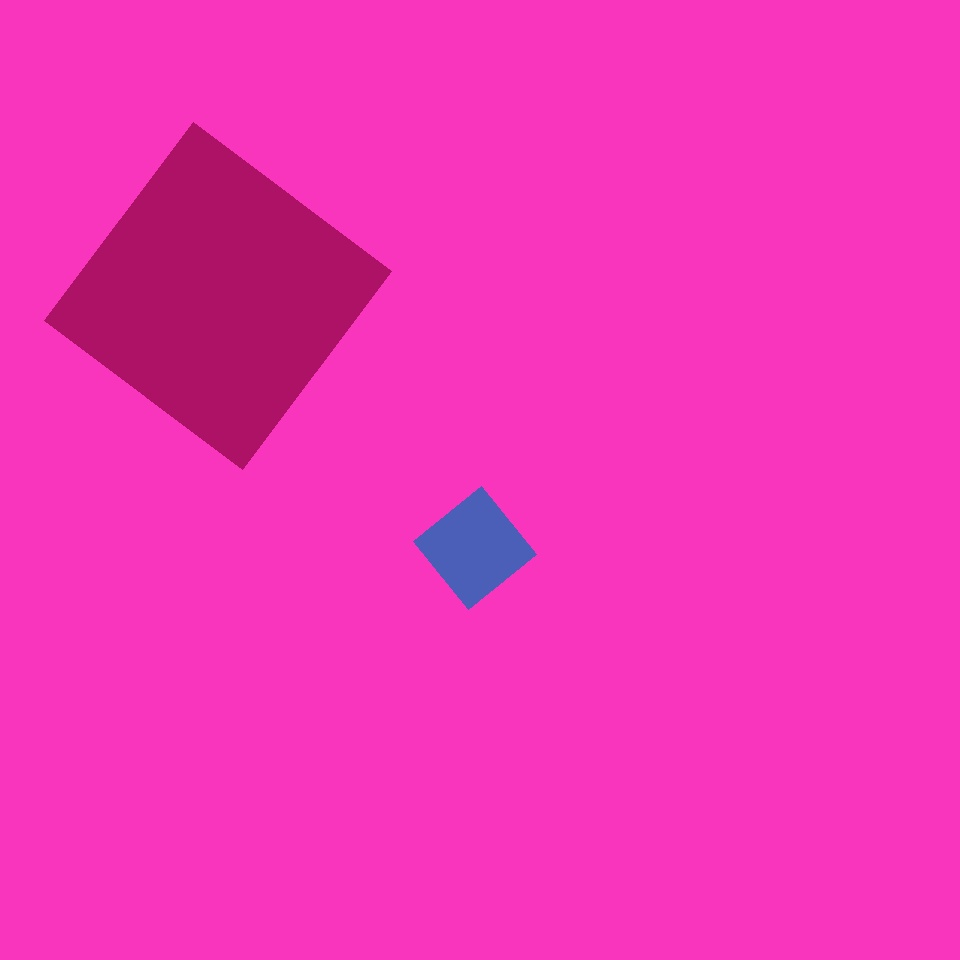circle: (382, 32, 685, 360)
square: (44, 123, 392, 470), (698, 347, 926, 575), (500, 237, 679, 416), (414, 486, 536, 610)
triangle: (322, 331, 673, 683)
